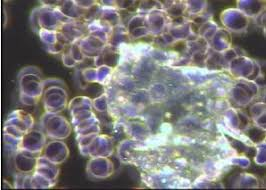Malaria: (219, 7, 252, 29), (48, 117, 72, 138), (81, 36, 103, 56), (89, 159, 113, 177), (14, 154, 35, 173)
